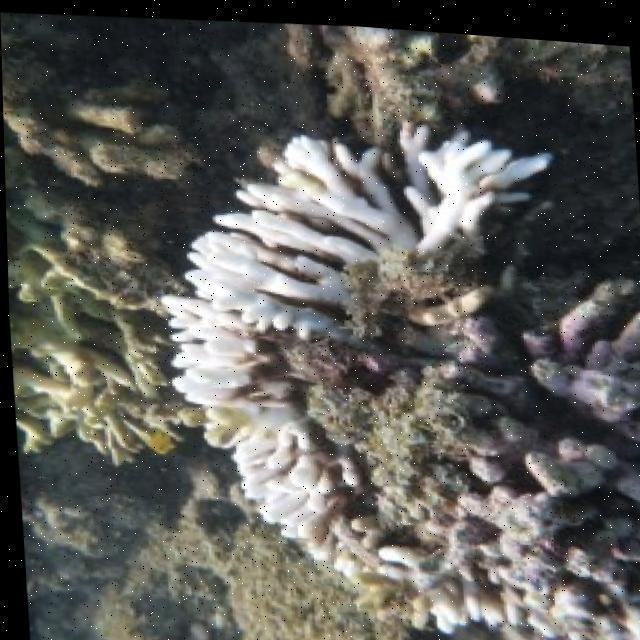Bleached Coral: (150, 48, 497, 345), (115, 306, 383, 568)
